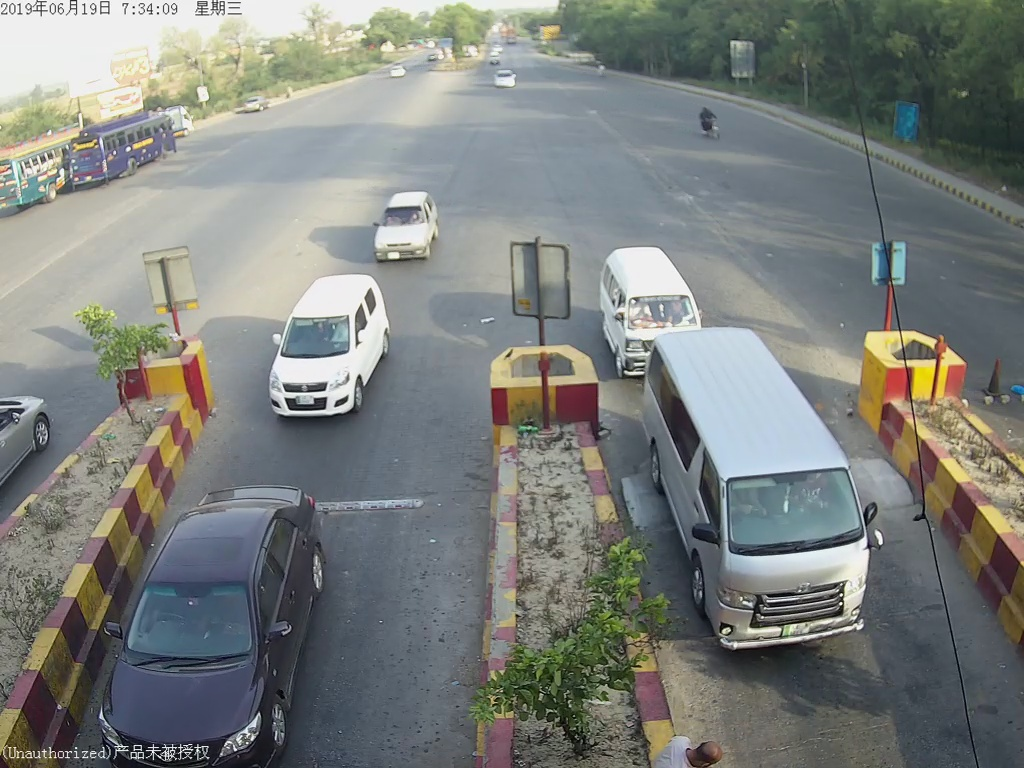Cat-1: (93, 513, 343, 742), (265, 273, 402, 415), (366, 198, 444, 261)
Cat-2: (631, 329, 898, 657)
